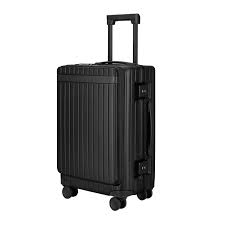suitcase: (54, 12, 156, 212)
